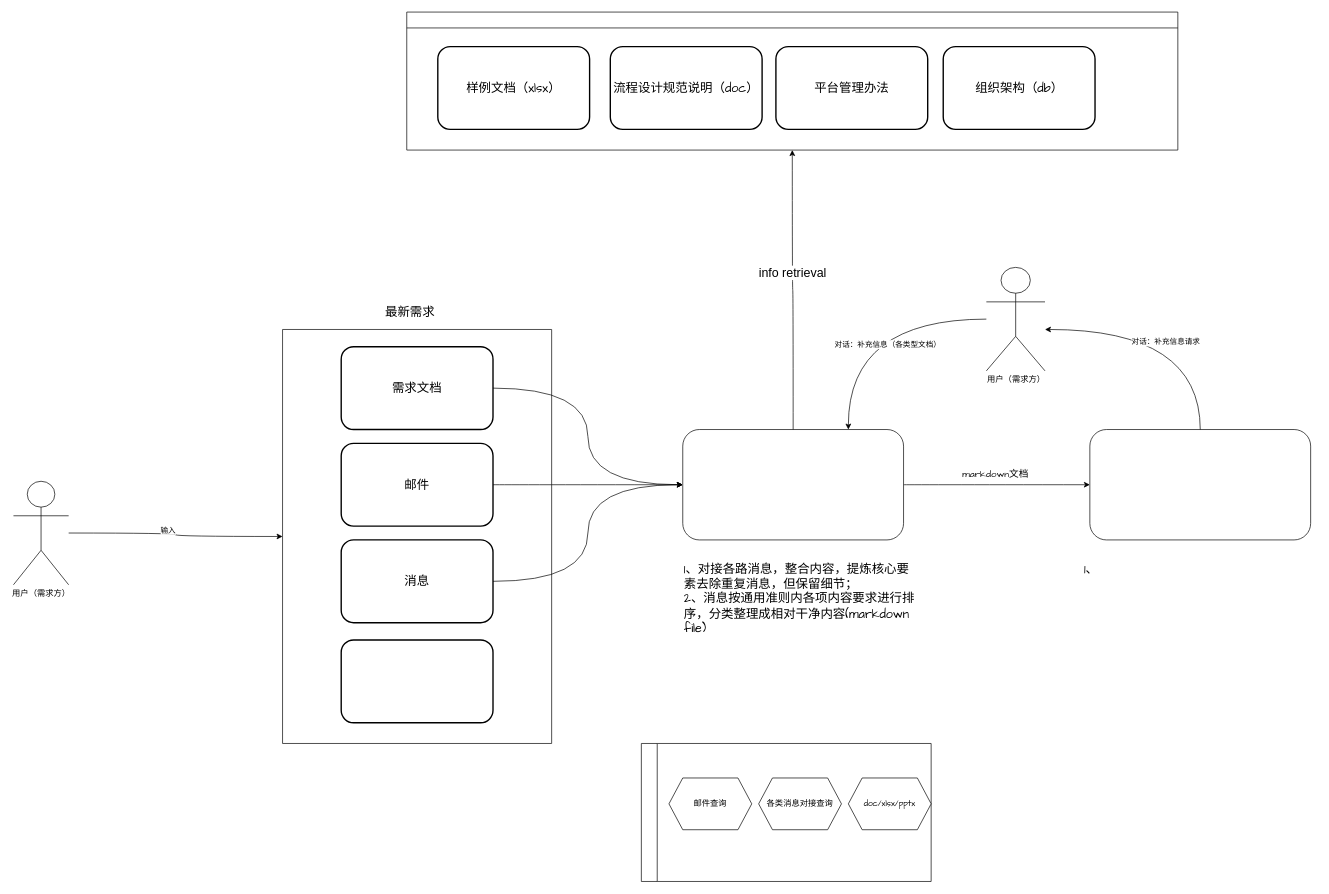
This 1329x894 diagram has some shape labels left out. Here are the shapes that lost their labels. From the top down, the box of each, then its label:
(406, 11, 1178, 150): 通用
(682, 429, 904, 540): Info gather Agent
(1089, 429, 1311, 540): 需求分析 Agent
(340, 639, 493, 723): 会议纪要（录音、文档）
(641, 743, 931, 881): skill
